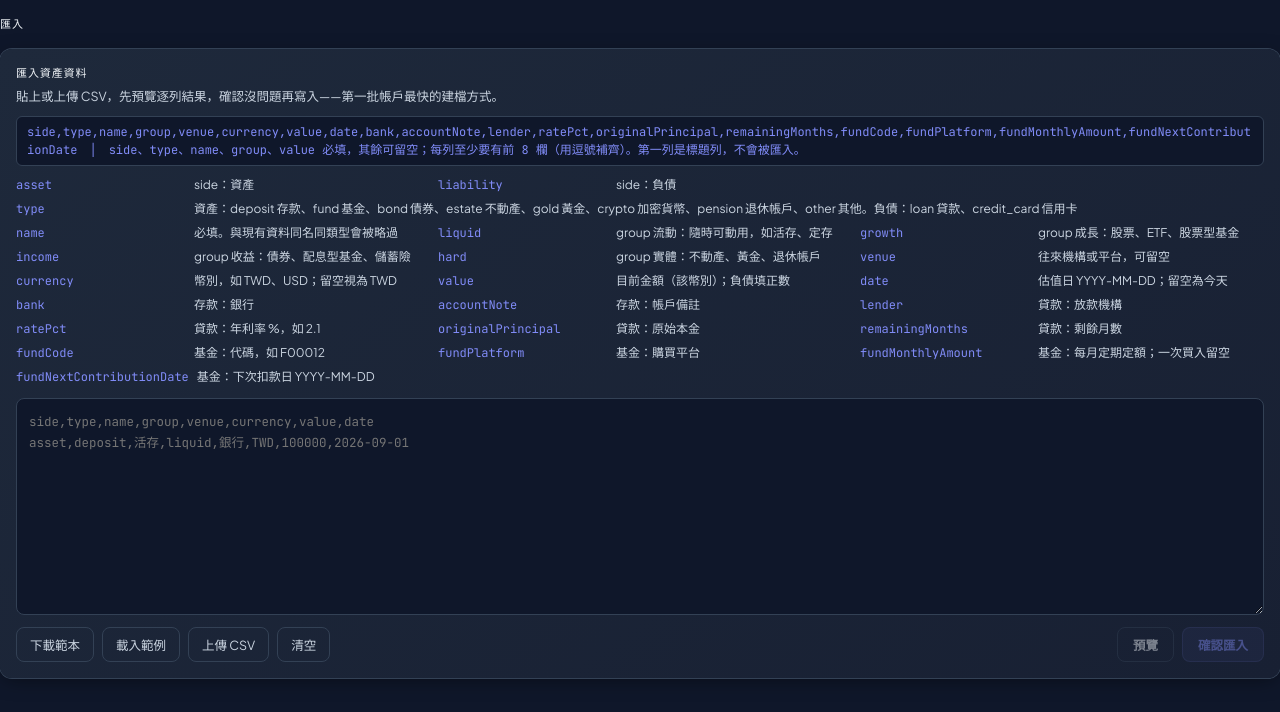
Scenario: the row-by-row result › writes only after a preview with something to write, then shows what was applied
Replace the text in the text box with "csv text": (640, 506) [16,398,1264,615]
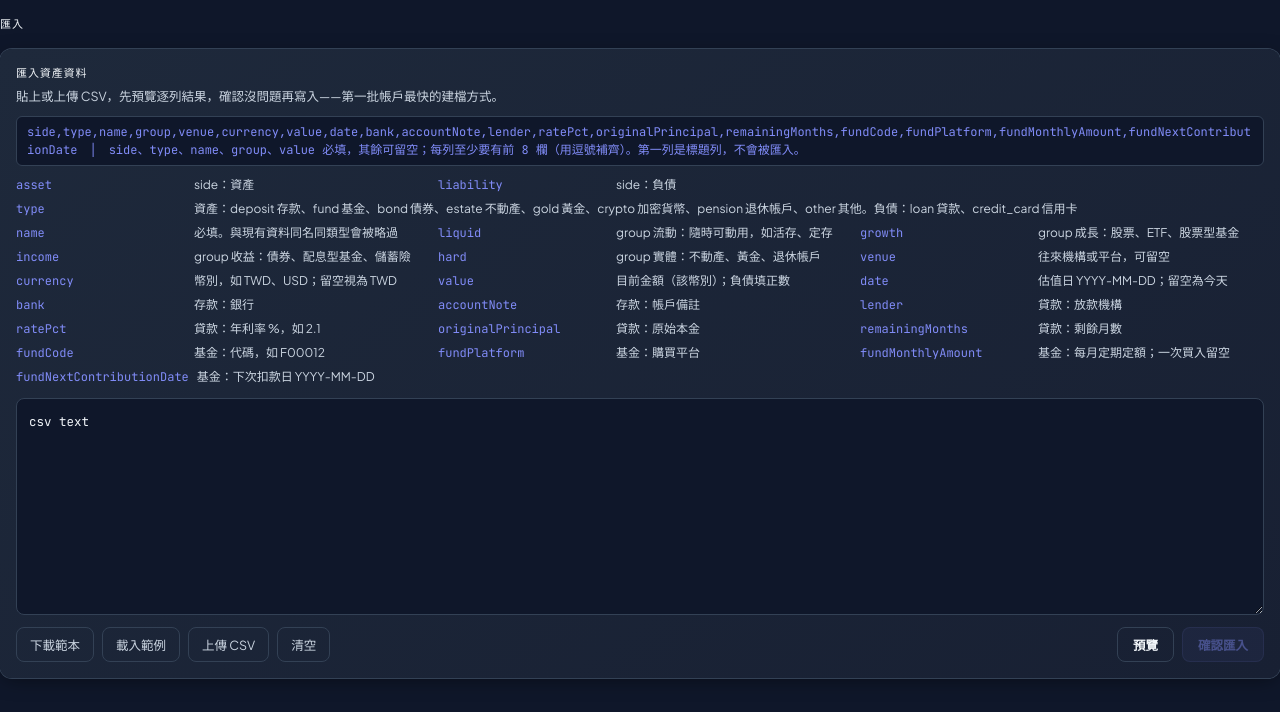
Expected: the button "確認匯入" is disabled, [1182,627,1264,662]
Click the button "預覽": (1146, 644) [1117,627,1174,662]
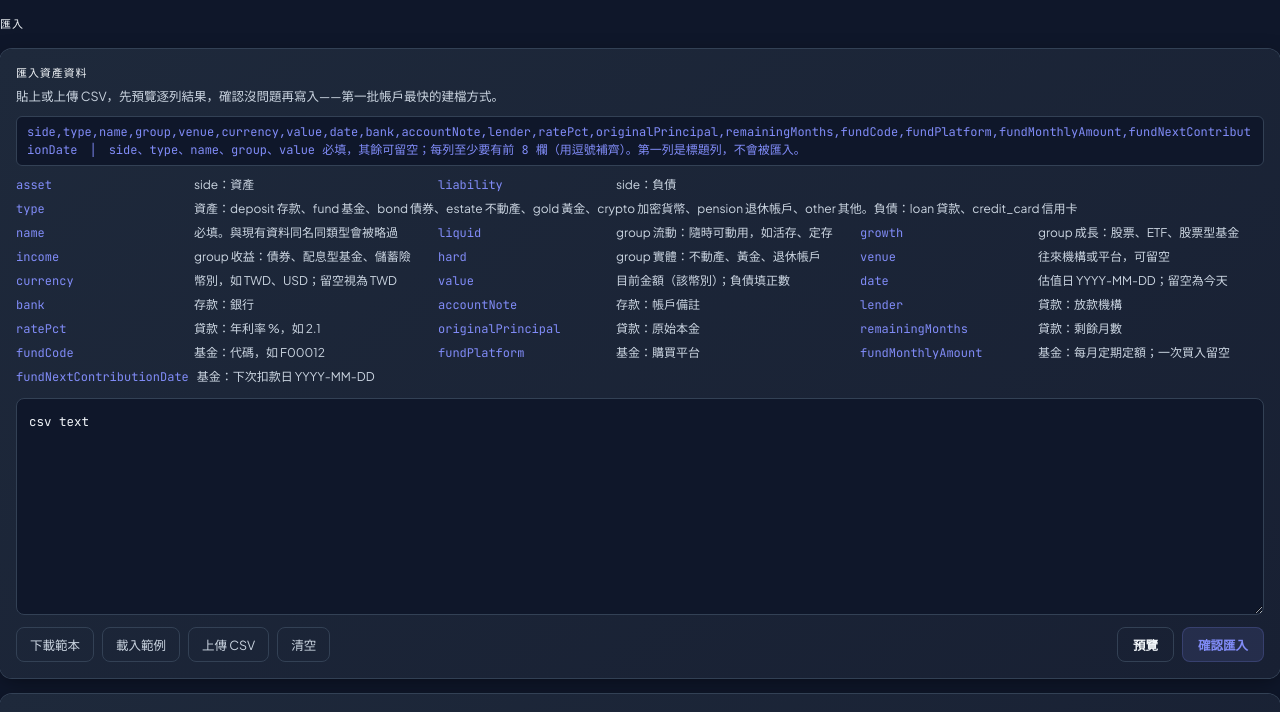
Now the button "確認匯入" is enabled
Click the button "確認匯入": (1223, 644) [1182,627,1264,662]
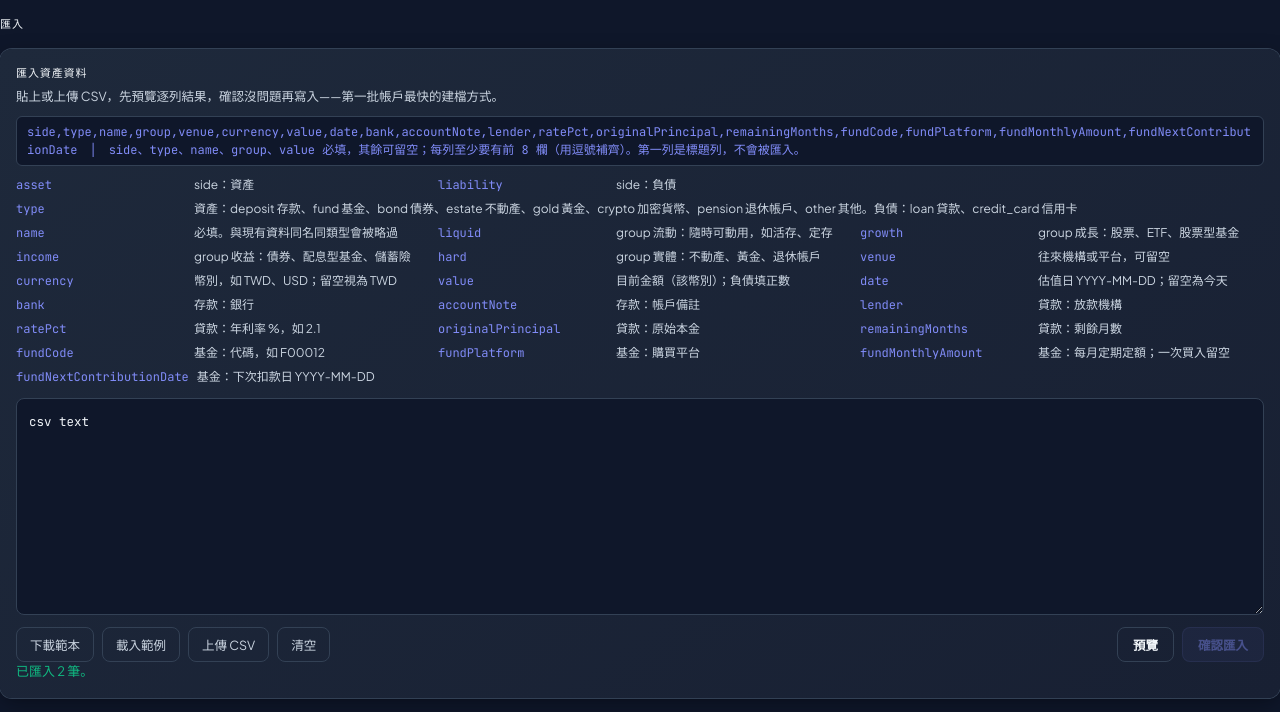
Now the button "確認匯入" is disabled, box [1182,627,1264,662]
